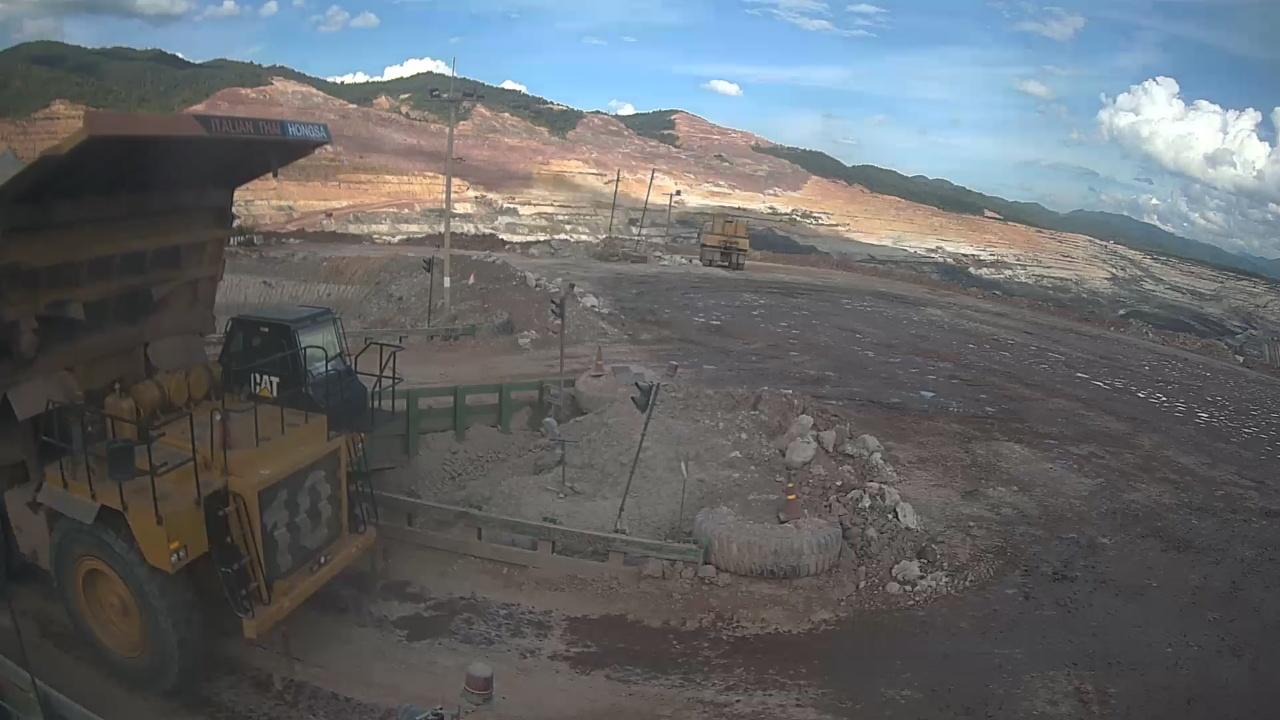dumping_soil: (0, 96, 401, 696)
front_number: (261, 466, 346, 579)
